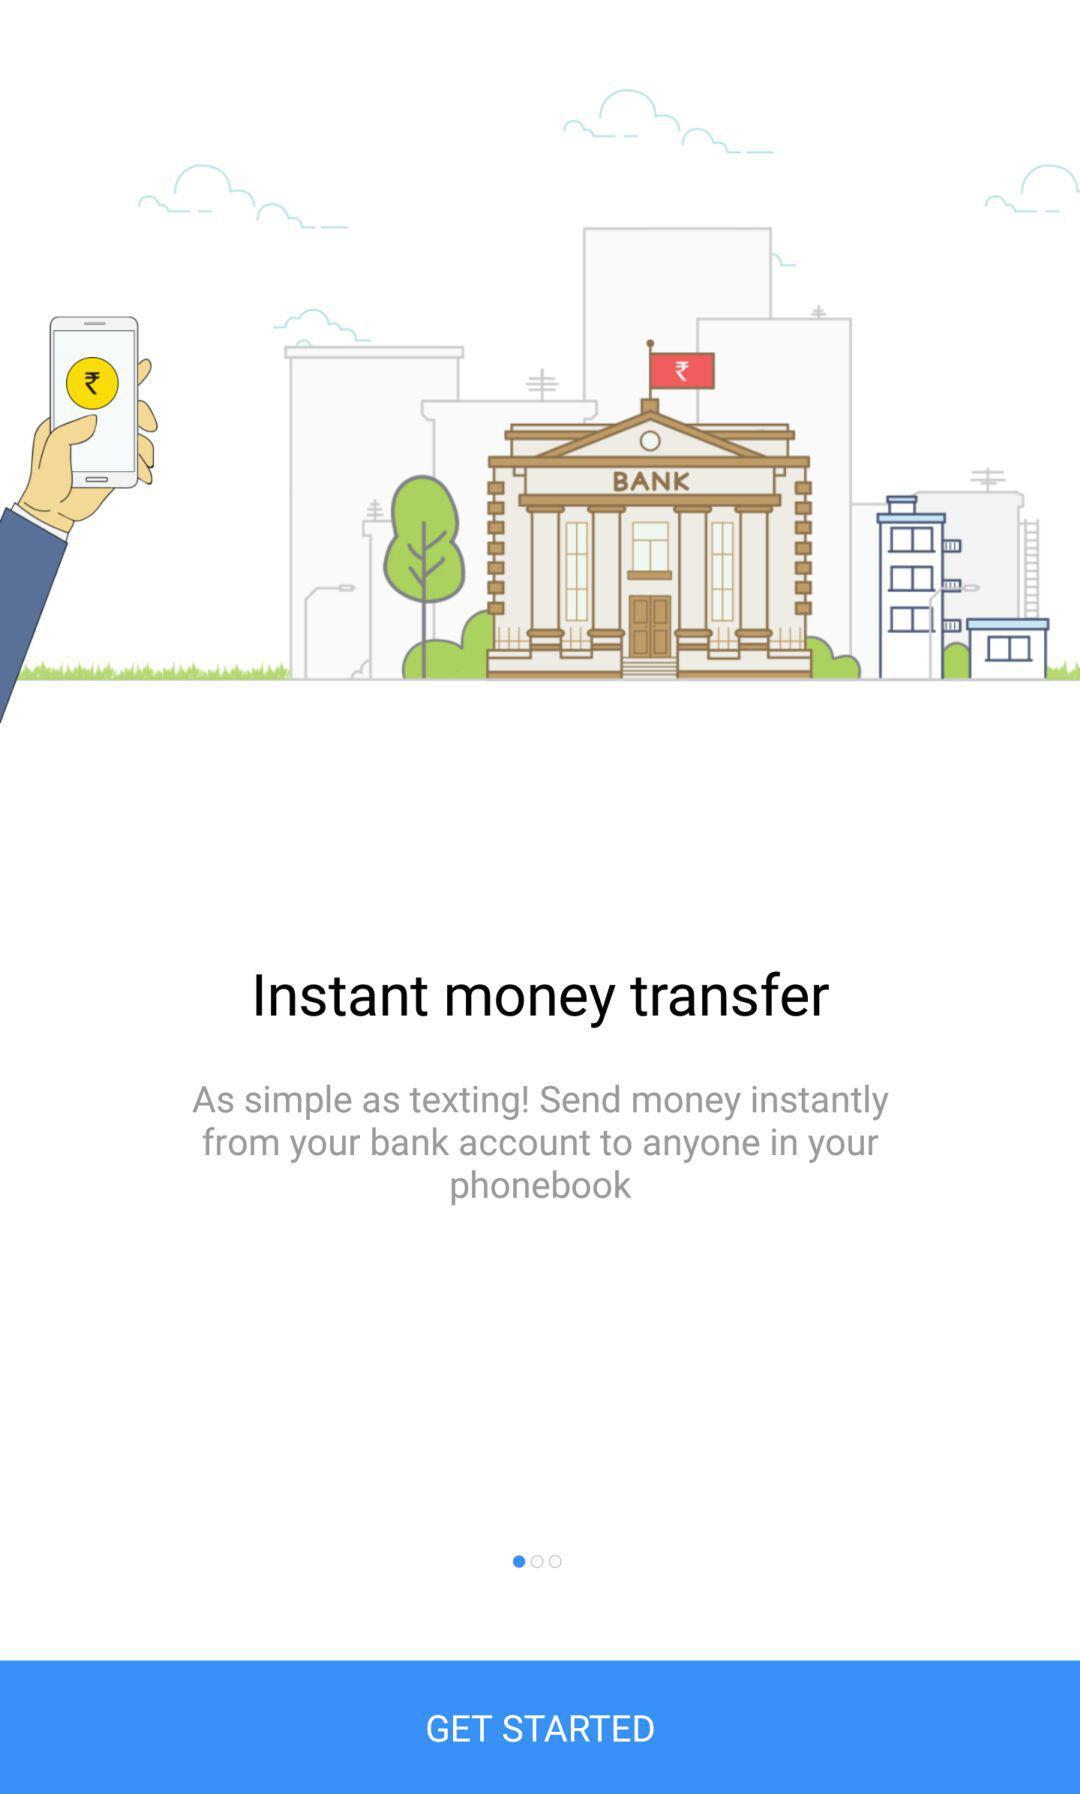Image: (1, 88, 1080, 721)
PageIndicator: (512, 1554, 562, 1568)
Text: (193, 1084, 889, 1207), (256, 971, 830, 1029)
TextButton: (1, 1659, 1080, 1794)
